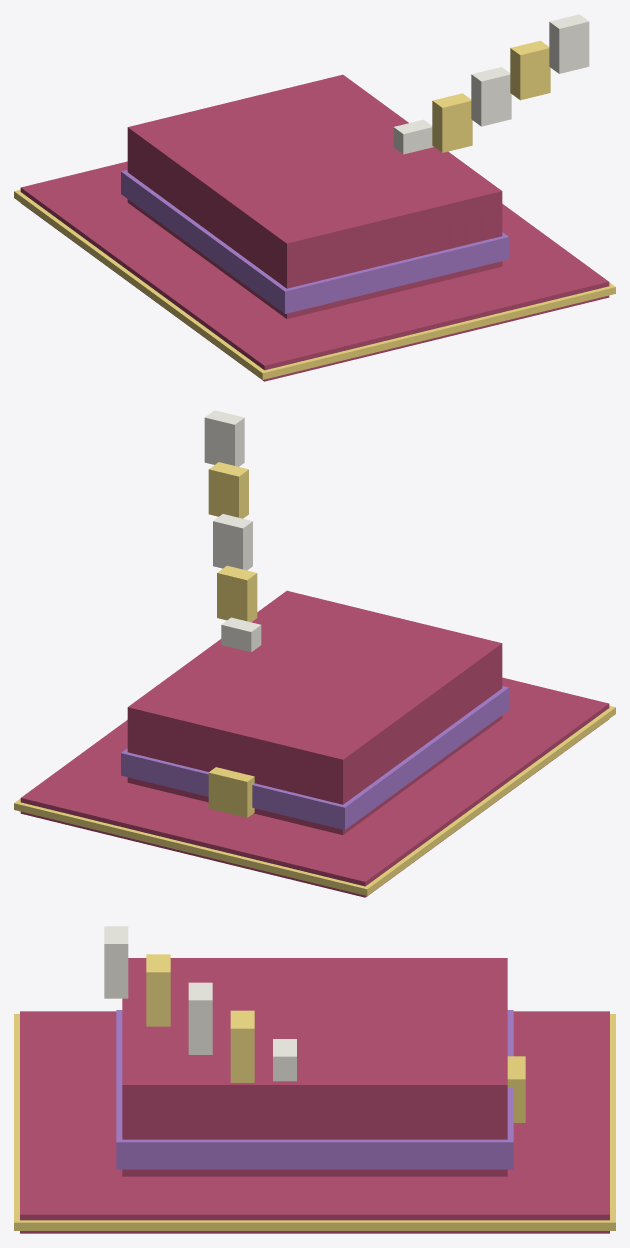
Rendered from chapeu_bardo.glb.
The picture shows the model from 3 angles, top to bottom: view 1: azimuth 30°, elevation 25°; view 2: azimuth 150°, elevation 25°; view 3: azimuth 270°, elevation 25°; orthographic projection. The views are drawn at different scales.
Parts seen in each view (by area): view 1: chapeu_bardo; view 2: chapeu_bardo; view 3: chapeu_bardo.
Part boxes in pixels (x1,y1,x2,y2): chapeu_bardo: (14, 14, 615, 381); chapeu_bardo: (14, 410, 615, 897); chapeu_bardo: (14, 926, 615, 1233).
Size of the model in its own units: 0.845 by 0.5475 by 1.
